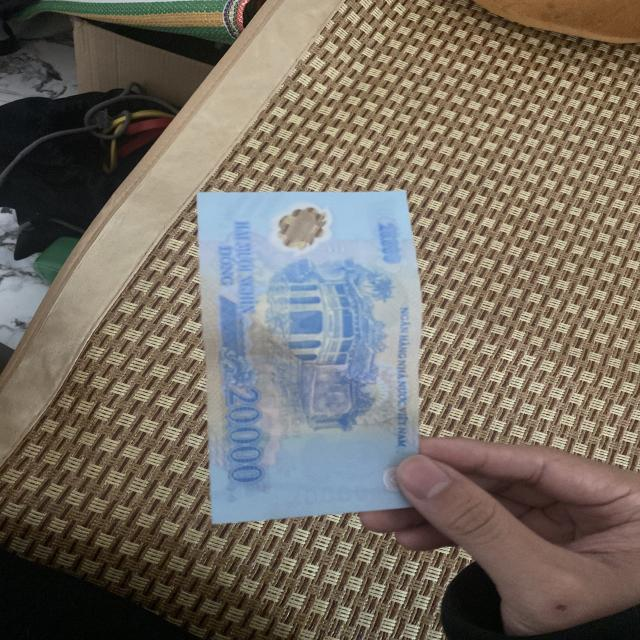20 000 VND: (195, 188, 425, 525)
